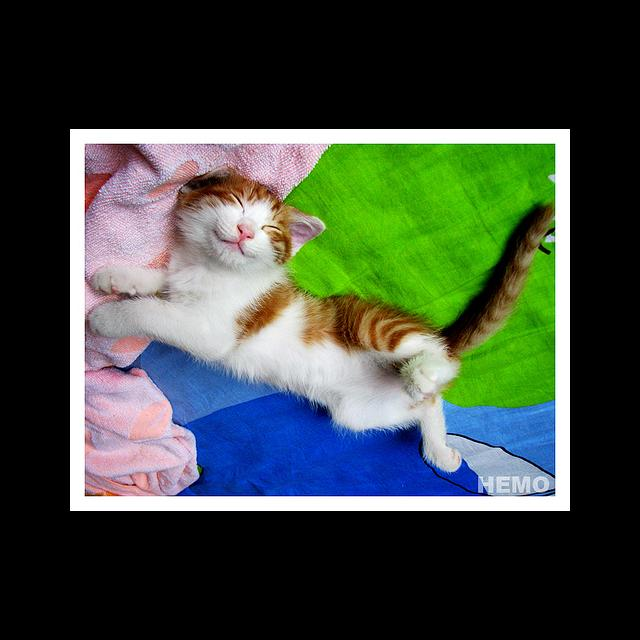animals: (187, 152, 324, 260)
